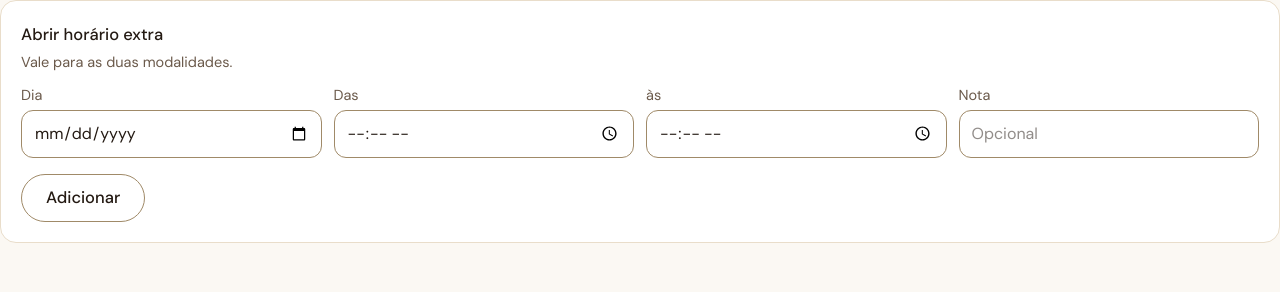
Test: <FormExtra> › preenche e envia dia, início, fim e nota
In the date field labelled "Dia": (171, 134) [21,110,322,158], type "2026-09-27"
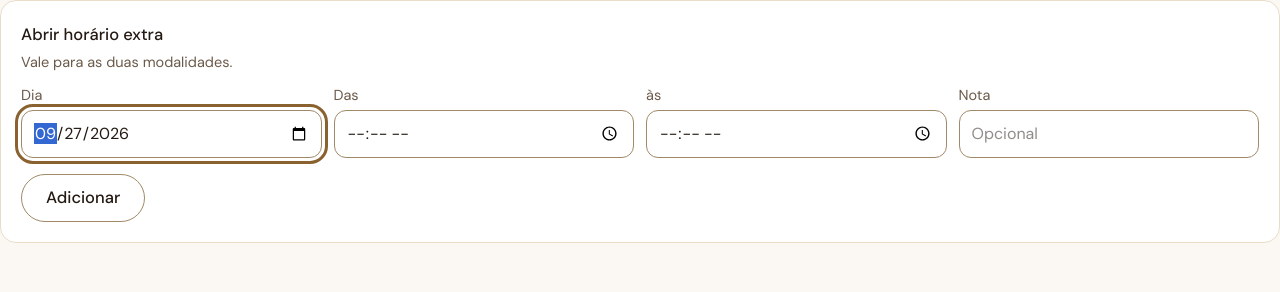
In the time field labelled "Das": (484, 134) [334,110,634,158], type "08:00"
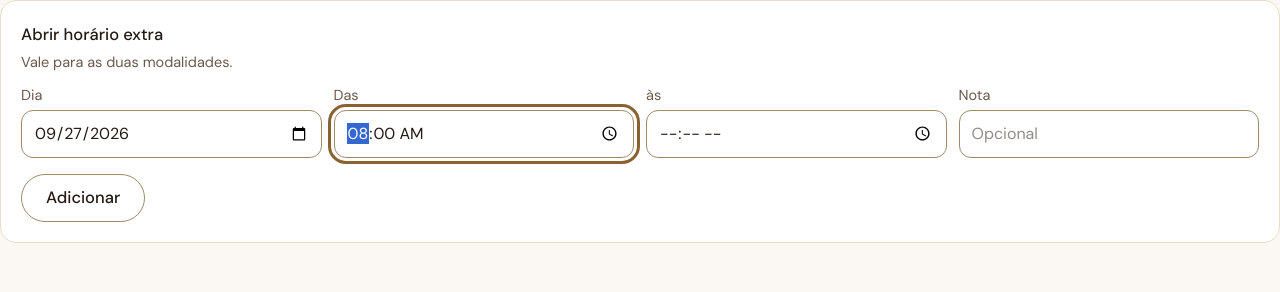
In the time field labelled "às": (796, 134) [646,110,946,158], type "10:00"
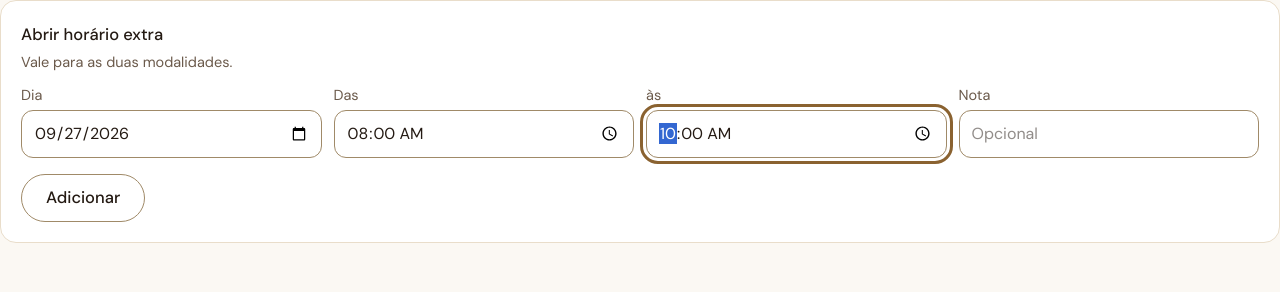
In the field labelled "Nota": (1109, 134) [958,110,1259,158], type "Mutirão de sábado"
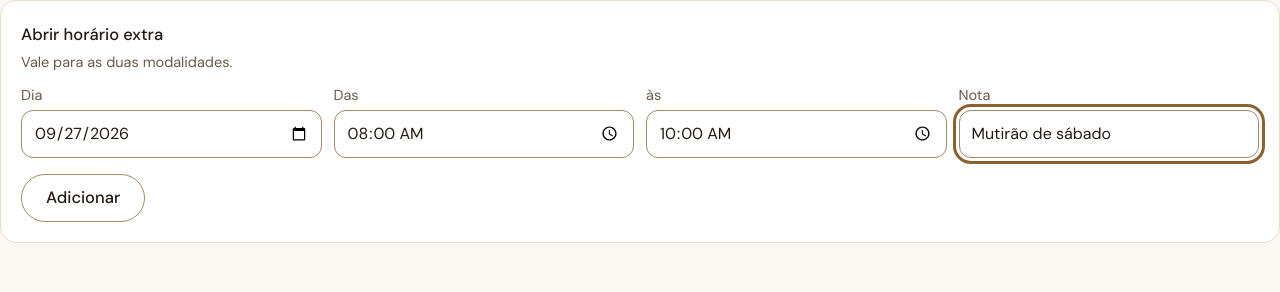
Click the button "Adicionar": (83, 198) [21,174,145,222]
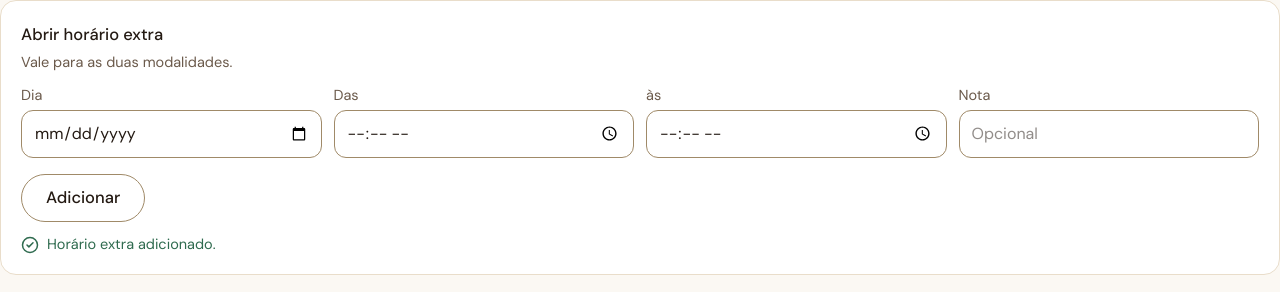
Check: the message reads "Horário extra adicionado.", box [47,235,216,253]
